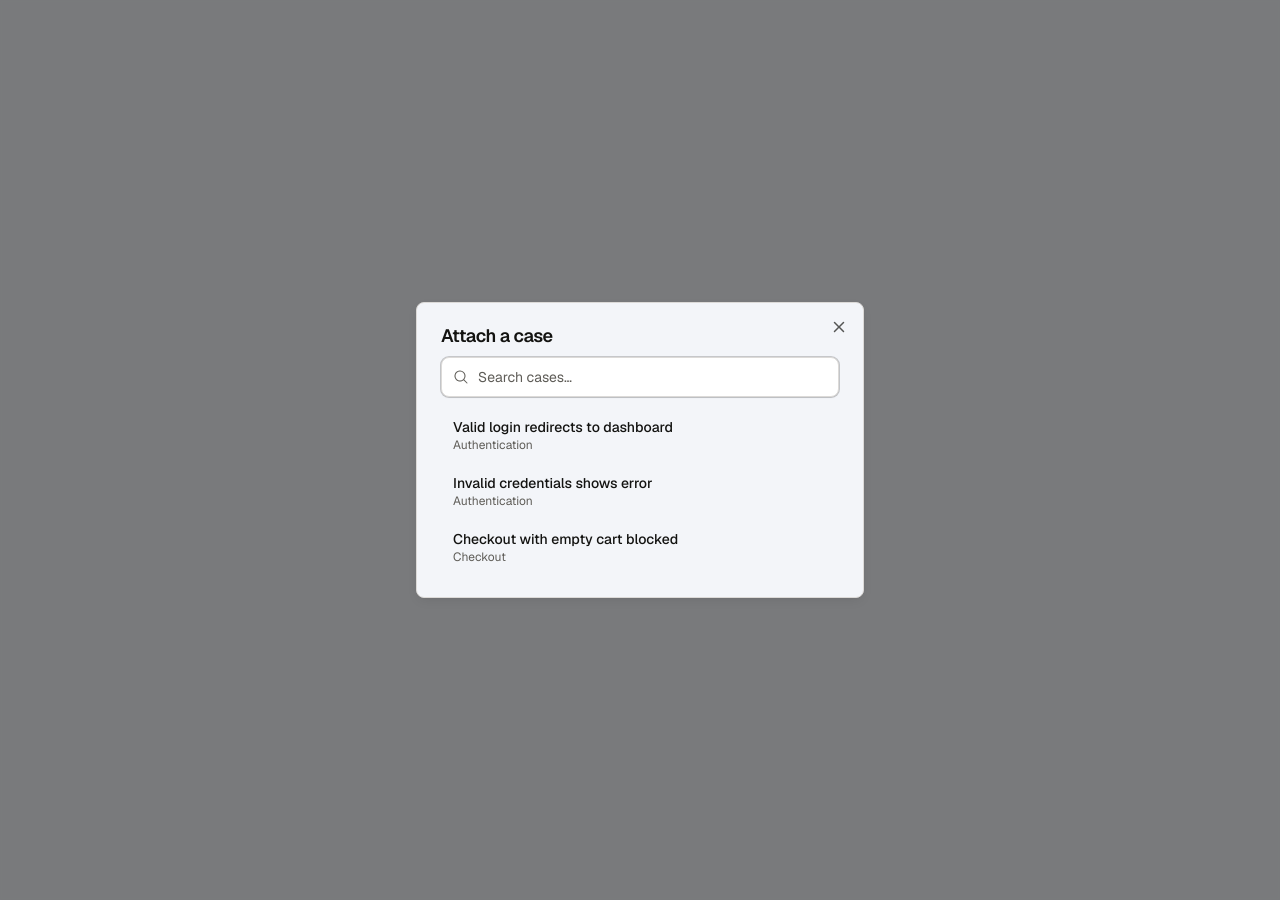
Test: ChatCasePicker › filters the list as the user types
In the dropdown labelled "Search cases": [640, 377] box [441,357,839,397], type "checkout"
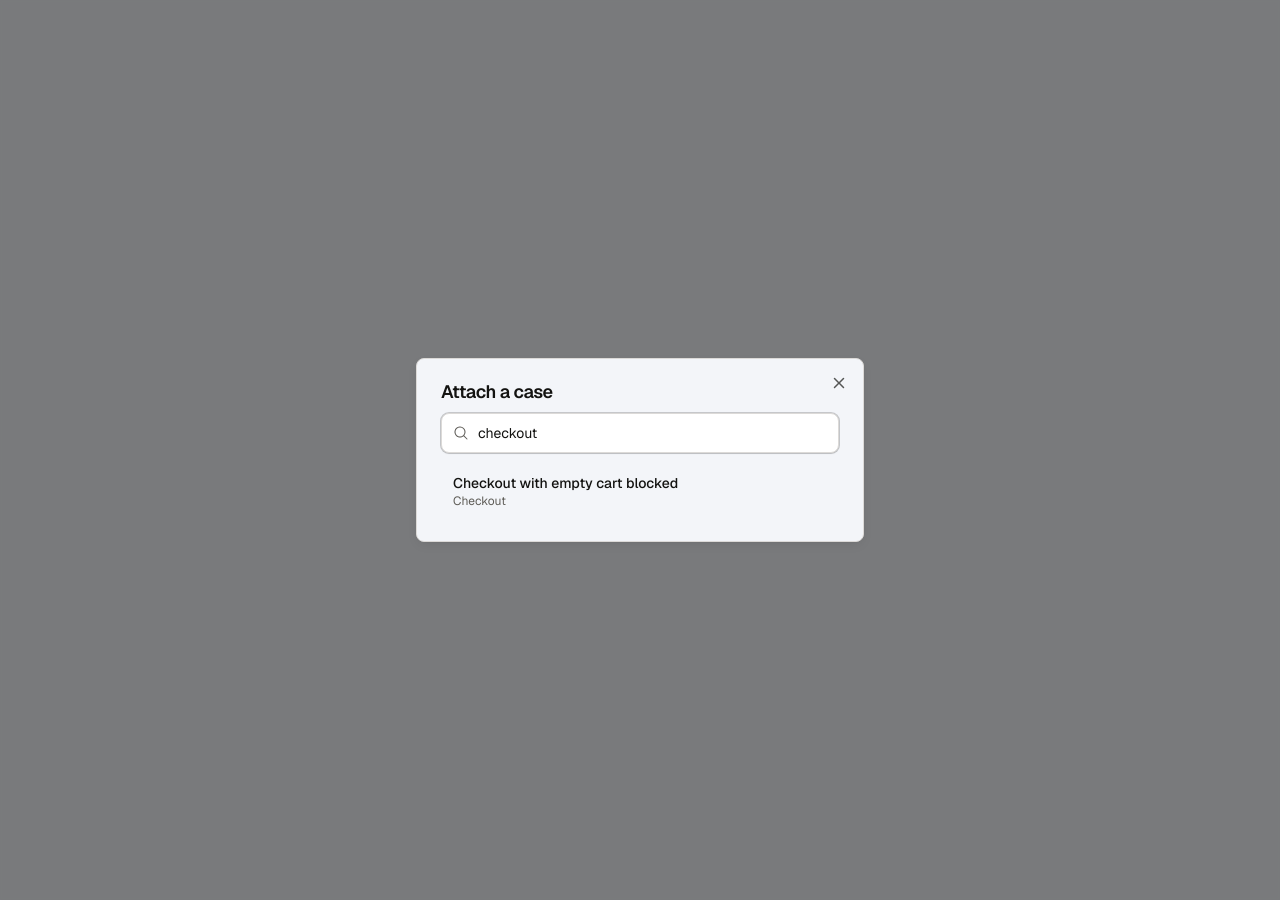
Expected: the text "Checkout with empty cart blocked" is shown, [453,473,678,493]
Now the option "Valid login redirects to dashboard" is gone
